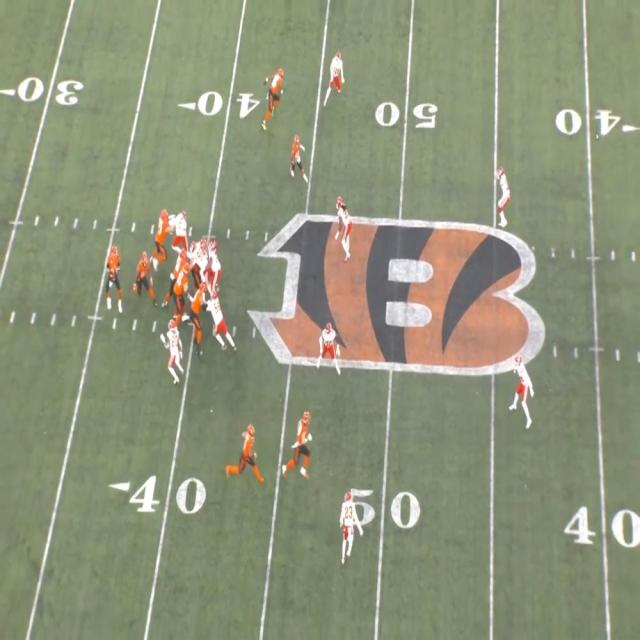db: (339, 490, 358, 558), (512, 360, 535, 414), (496, 167, 513, 224), (167, 321, 179, 368)
lb: (336, 203, 354, 259), (316, 323, 338, 364)
qb: (106, 244, 121, 290)
skill: (294, 410, 312, 471), (239, 424, 258, 476), (266, 67, 286, 115), (136, 250, 152, 300), (328, 52, 344, 94), (290, 134, 304, 176)
